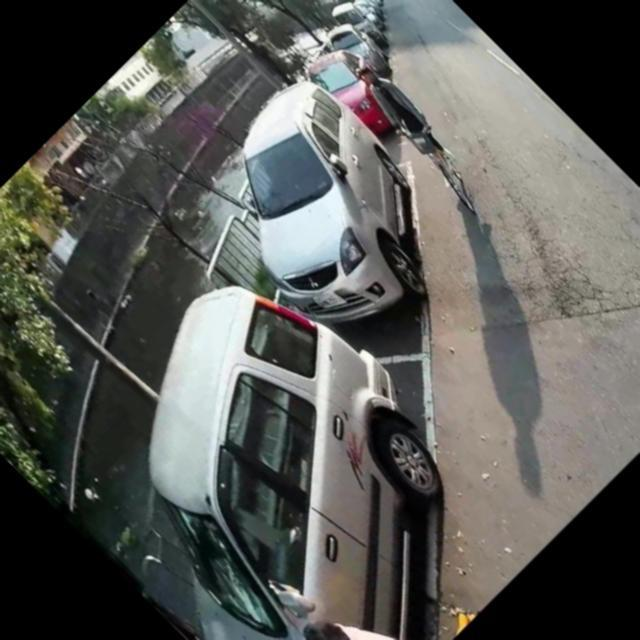person: (336, 53, 476, 193), (273, 557, 442, 640)
